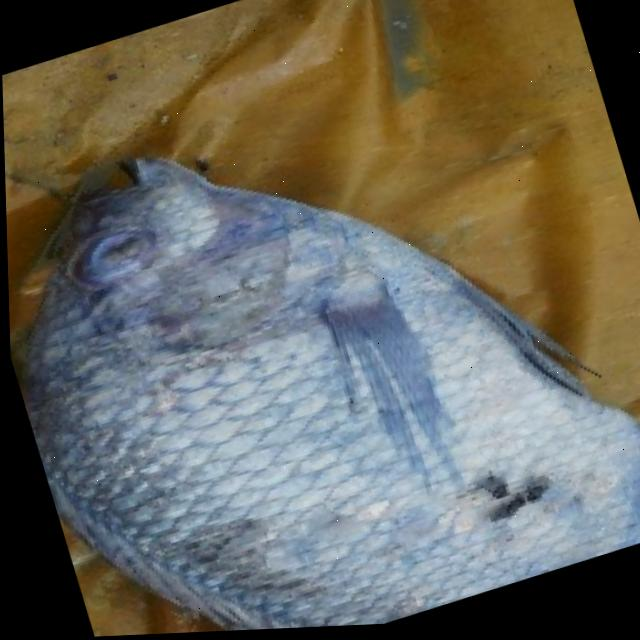Non-Fresh: (1, 43, 620, 640), (53, 204, 177, 322)
